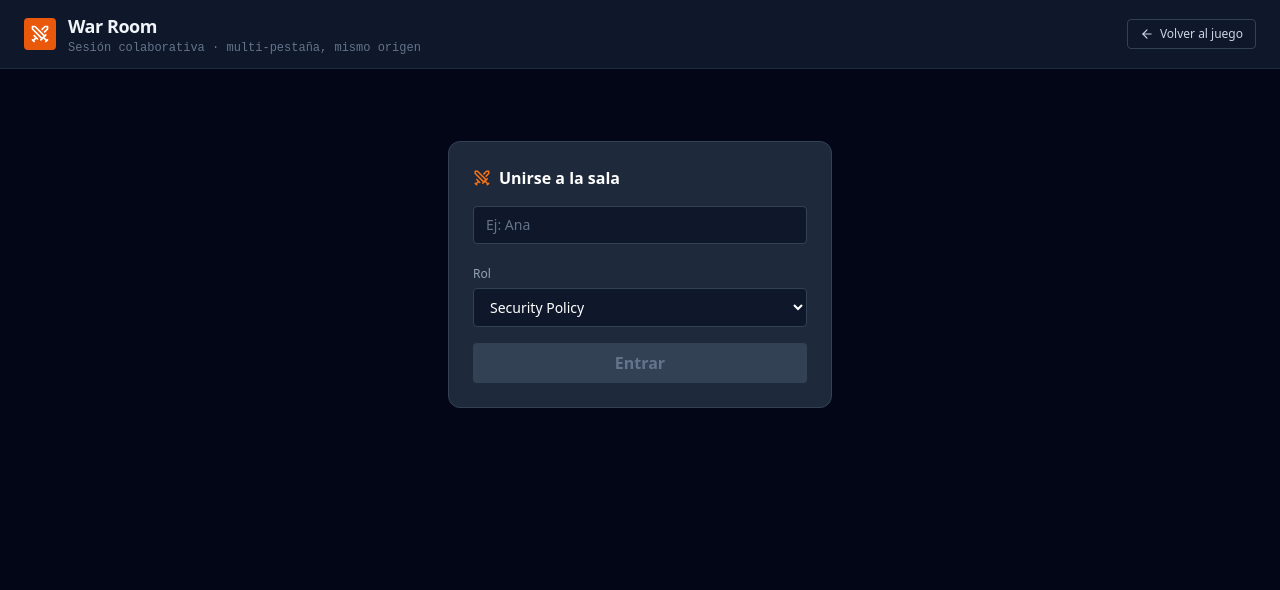
Test case: WarRoom — commit y validación › el validador hace commit y aparece un resultado
The image size is (1280, 590).
In the field named "tu nombre": (640, 225) [473,206,807,244], type "Val"
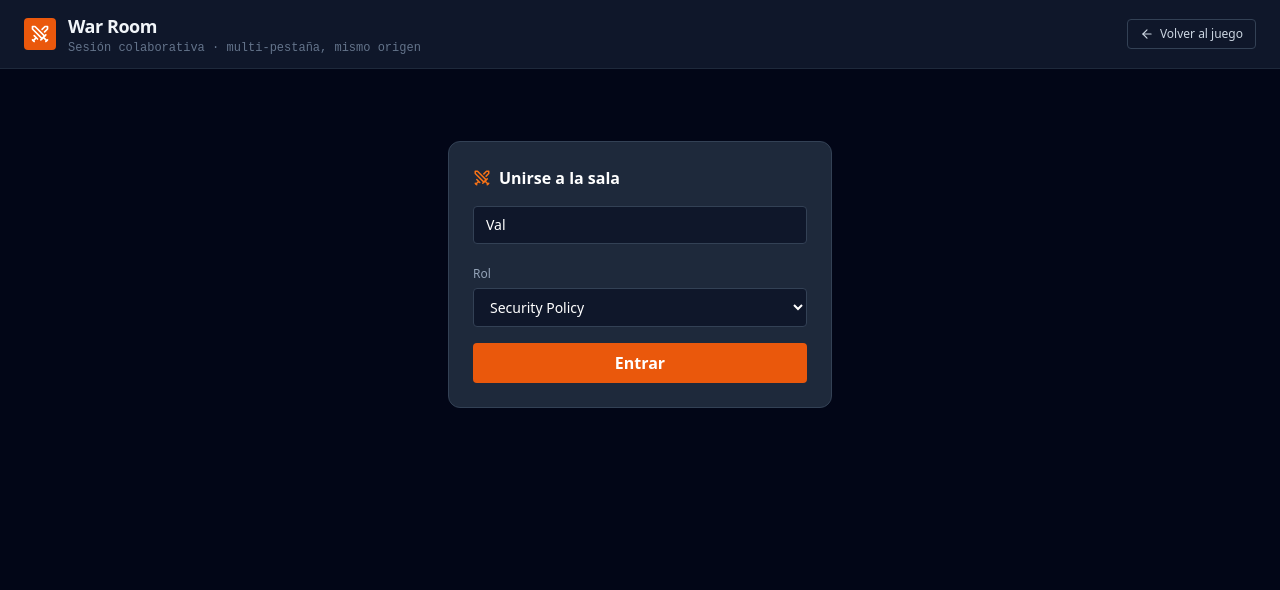
Select "Validador" in the dropdown named "rol": (640, 308) [473,288,807,327]
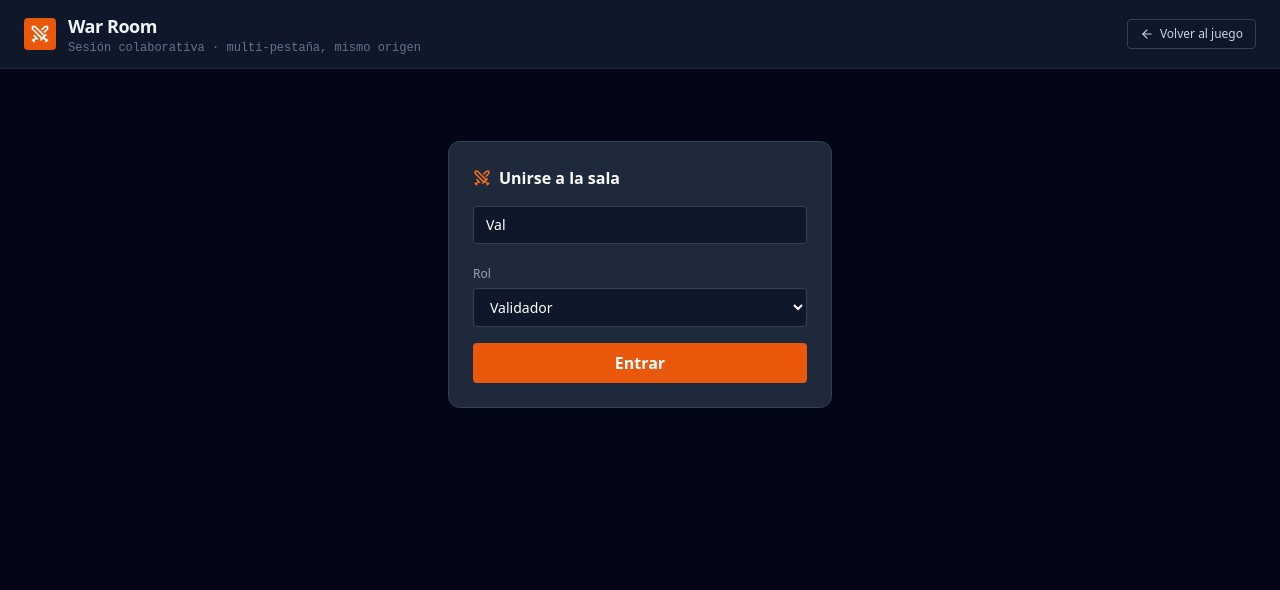
Click the button "Entrar": (640, 363) [473,343,807,383]
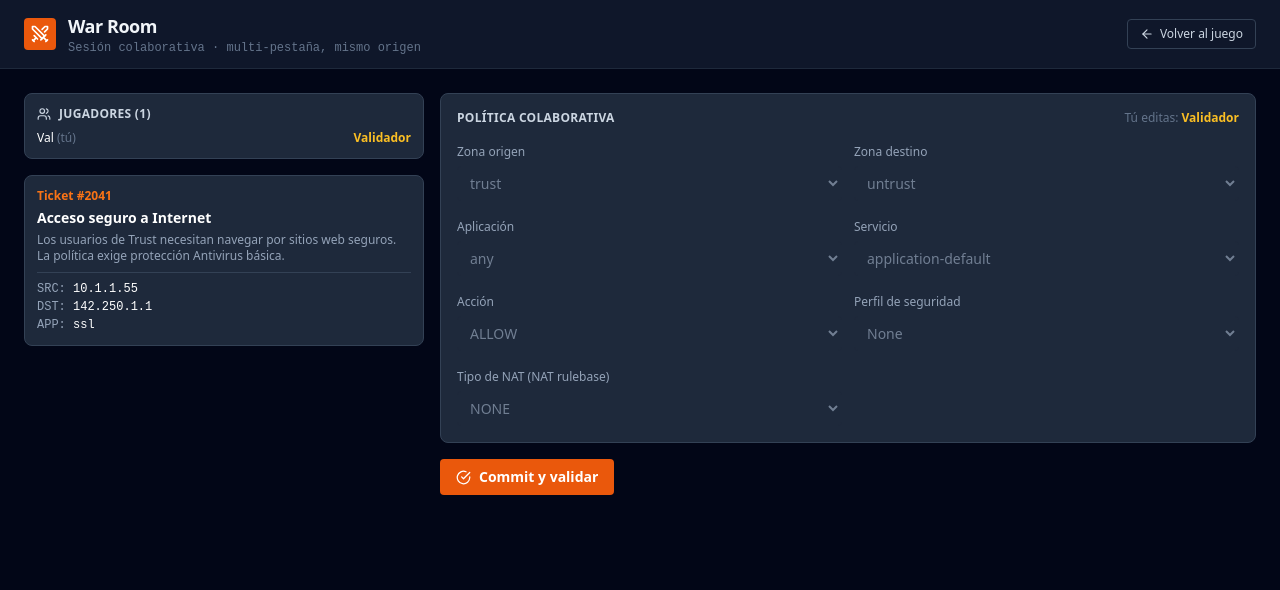
Click the button "Commit y validar": (527, 477) [440,459,614,495]
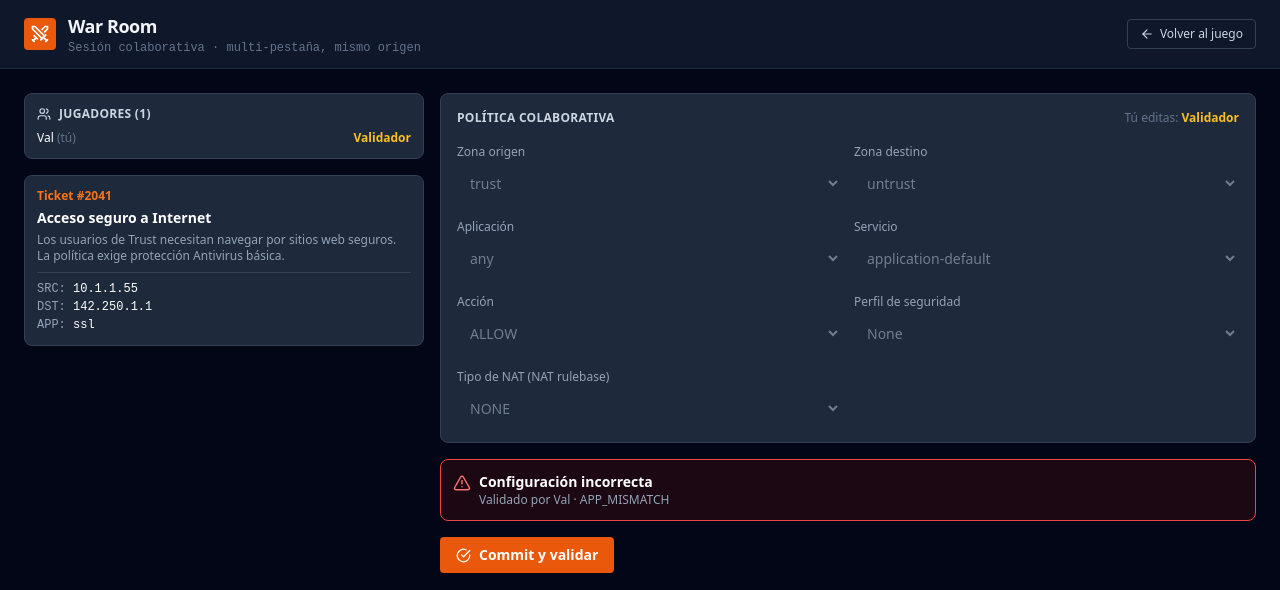
Result: the text "Configuración incorrecta" is shown at [479,472,669,492]
Result: the text "Validado por Val · APP_MISMATCH" is shown at [479,492,669,508]
